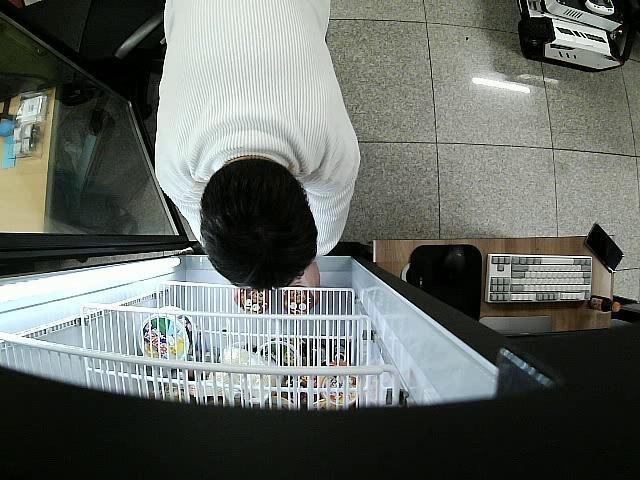06_nuguri_S: (283, 282, 316, 314)
